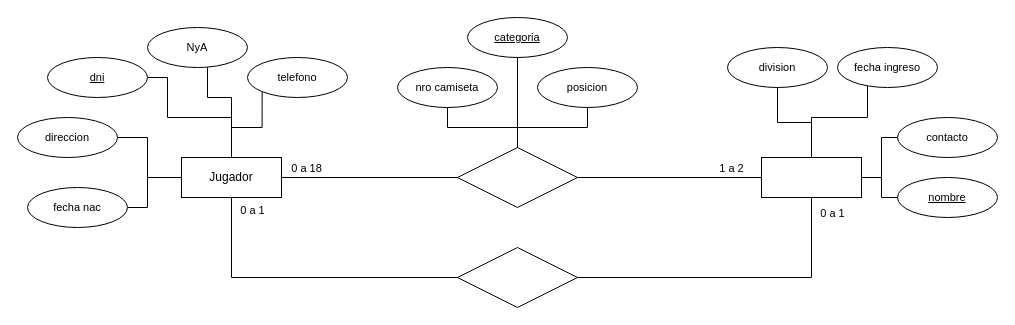
Image size: 1015x325. Some labels were removed from this diagram. Each missing label, with the centre of its shape:
Dirige: point 517,277
Equipo: point 811,177
Juega en: point 517,177
